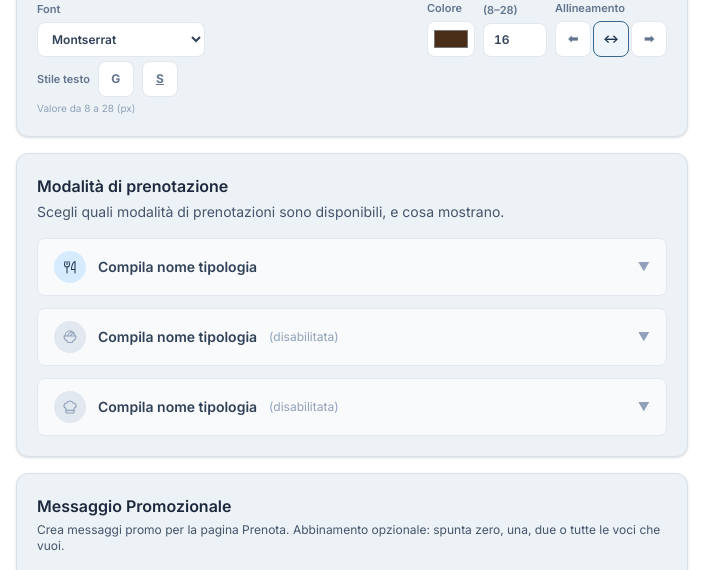
Test case: FIX 9 §3A — compilable_category_keys toggle admin › toggle compilabile assente per categoria nascosta (hidden)
(page scrolled)
What coordinates should you click on to do the following:
click the button "Compila nome tipologia ▼"
I would click on:
 (70, 267)
Its box is x1=38 y1=239 x2=666 y2=295.
(page scrolled)
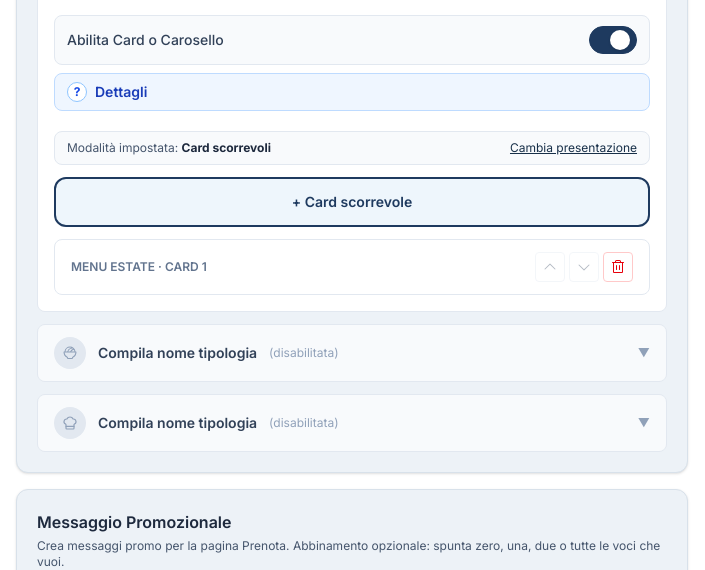
Result: the text "Abilita Card o Carosello" is shown at x1=67 y1=30 x2=224 y2=50
Result: the text "Menu Estate · Card 1" is shown at x1=71 y1=259 x2=207 y2=274
What coordinates should you click on to do the following:
click the button "Menu Estate · Card 1"
I would click on:
 (139, 266)
Its box is x1=71 y1=259 x2=523 y2=275.
(page scrolled)
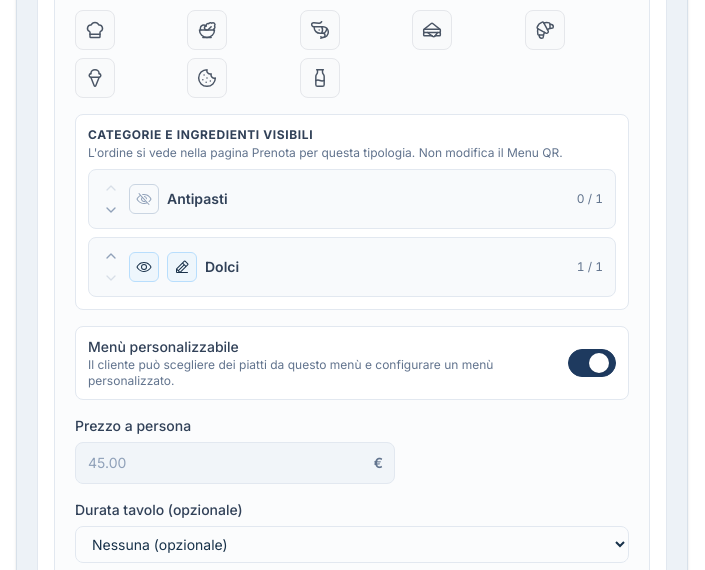
Result: the text "Categorie e ingredienti visibili" is shown at x1=88 y1=127 x2=313 y2=142
Result: the button named "disabilita compilazione dolci" is shown at x1=167 y1=252 x2=197 y2=282
